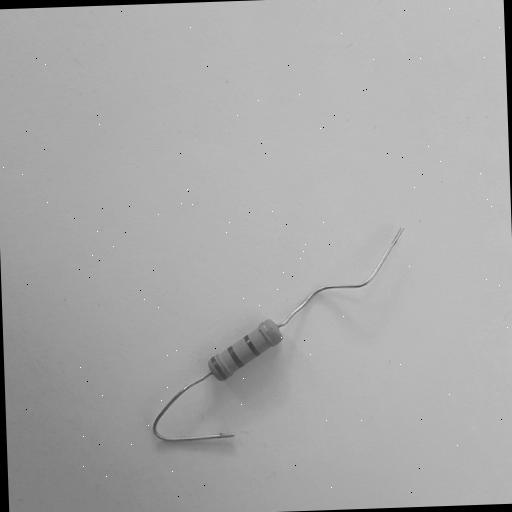RESISTOR: (182, 272, 321, 424)
